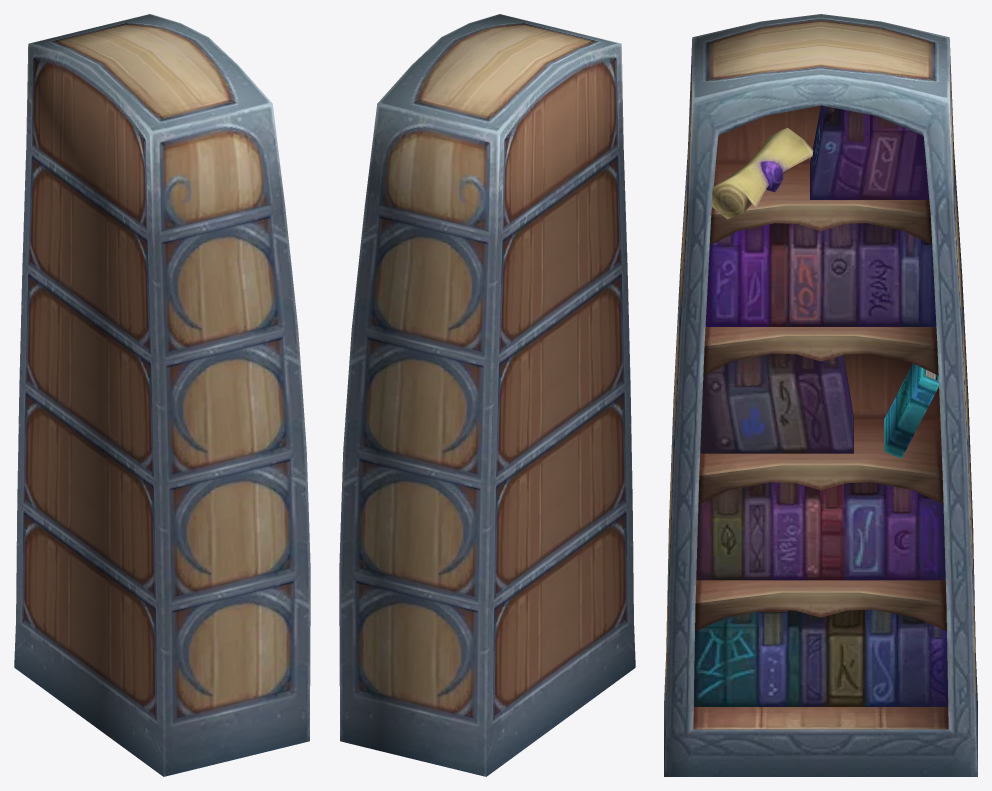
3 views of the same model, side by side, from view 1: azimuth 30°, elevation 25°; view 2: azimuth 150°, elevation 25°; view 3: azimuth 270°, elevation 25° (orthographic). The views are drawn at different scales.
Size of the model in its own units: 1.09 by 4.58 by 1.89.
2 materials, 2 textured.
